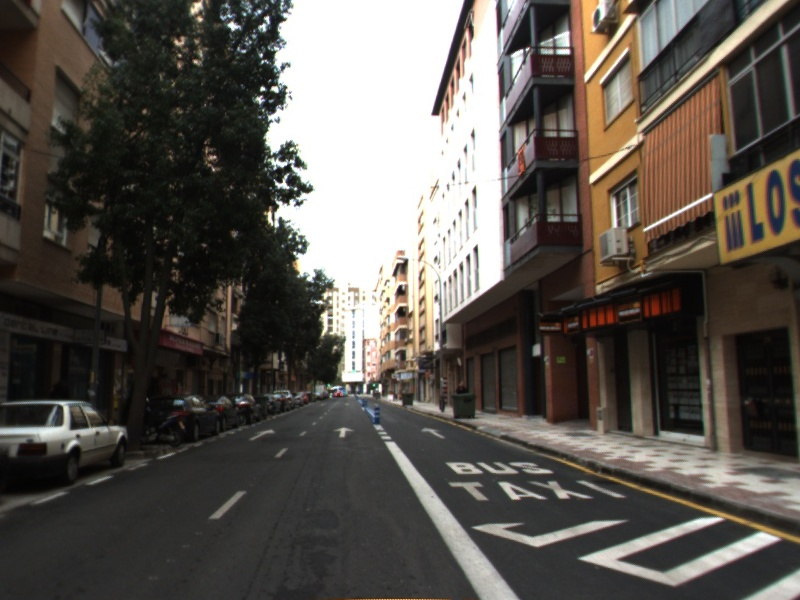STRAIGHT: (247, 427, 278, 443), (419, 425, 447, 441), (331, 425, 356, 439)
